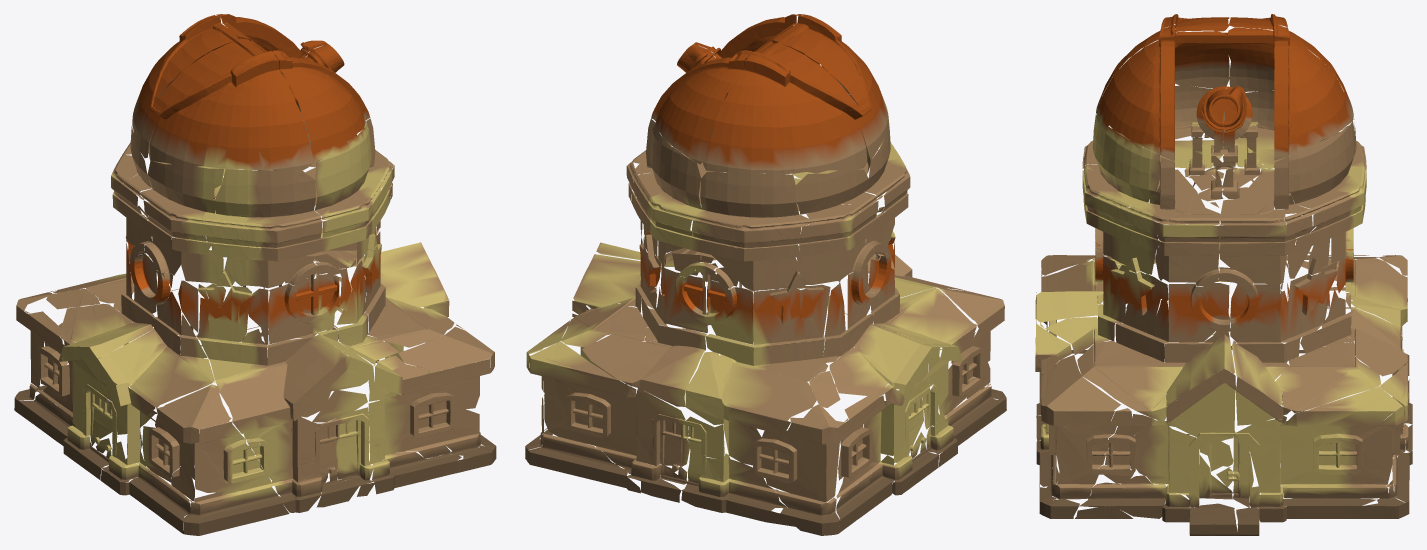
Rendered from hero-observatory.glb.
3 renders of one model, left to right at view 1: azimuth 30°, elevation 25°; view 2: azimuth 150°, elevation 25°; view 3: azimuth 270°, elevation 25°, orthographic. The views are drawn at different scales.
Parts seen in each view (by area): view 1: world; view 2: world; view 3: world.
Part boxes in pixels (bbox=[...]): world: bbox=[14, 14, 496, 535]; world: bbox=[525, 14, 1006, 535]; world: bbox=[1035, 14, 1412, 535].
Bounding box in the file's own units: 2.7 × 2.92 × 2.41.
